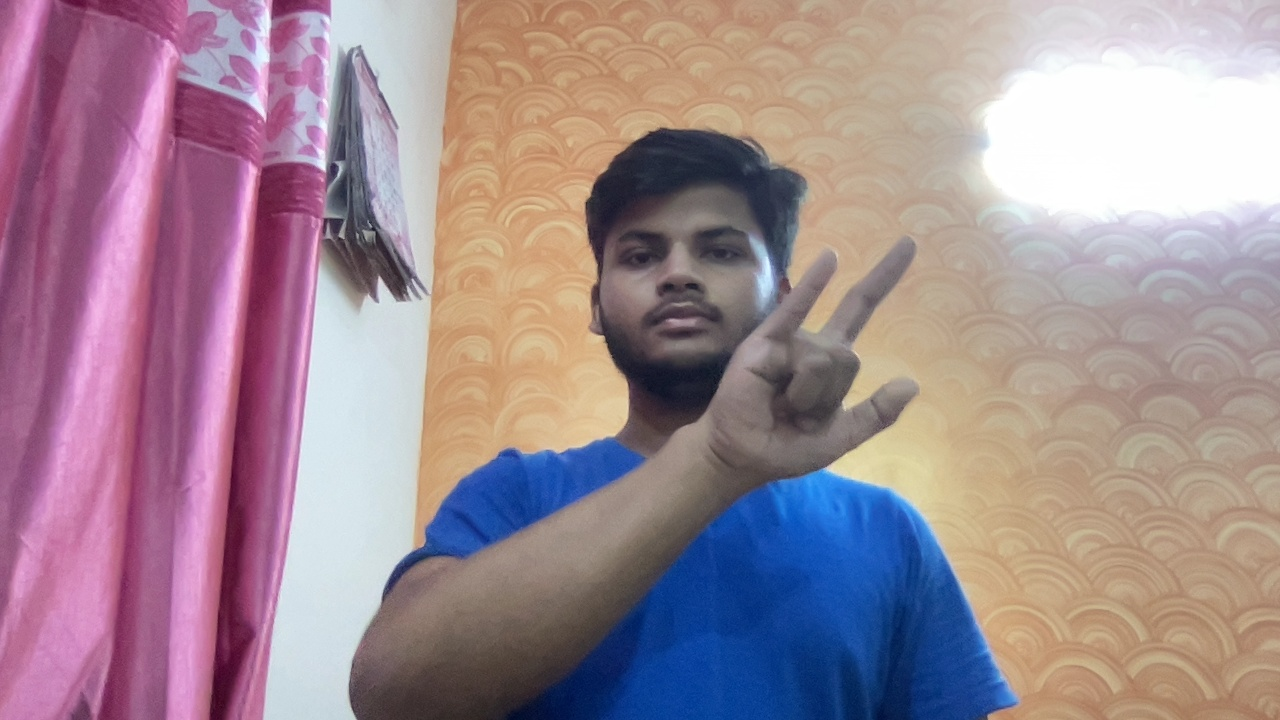iloveyou: (697, 216, 948, 504)
